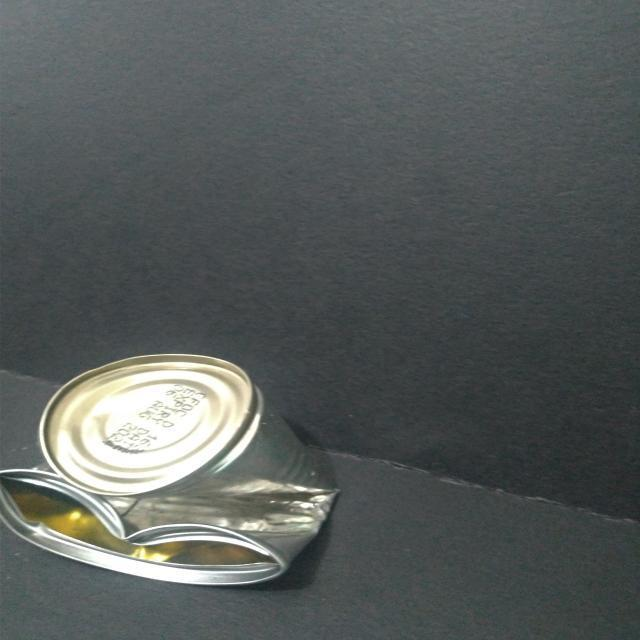metal-can: (0, 348, 345, 588)
